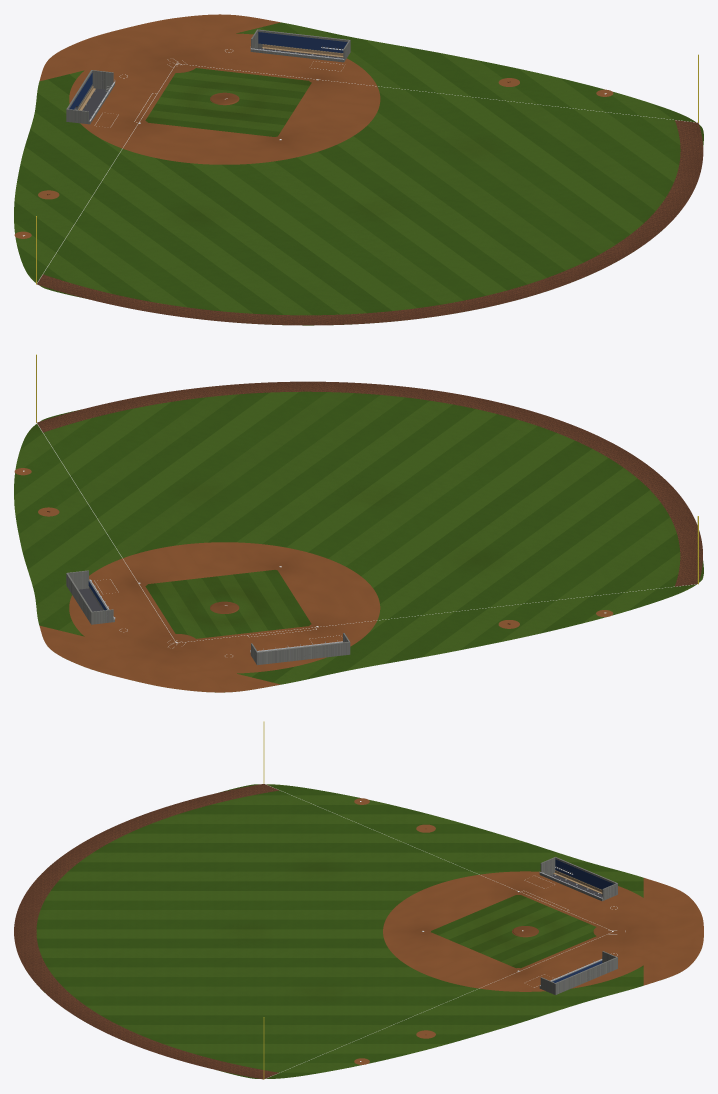
File: field.glb
3 renders of one model, top to bottom at view 1: azimuth 30°, elevation 25°; view 2: azimuth 150°, elevation 25°; view 3: azimuth 270°, elevation 25°, orthographic. The views are drawn at different scales.
Parts seen in each view (by area): view 1: Grass_Outfield, Dirt, WarningTrack, Grass_Infield, Dugout_3B_Padding, Dugout_1B, Dirt_Cutouts, Dugout_3B, Chalk; view 2: Grass_Outfield, Dirt, WarningTrack, Grass_Infield, Dugout_1B, Dugout_3B, Dirt_Cutouts, Chalk; view 3: Grass_Outfield, Dirt, WarningTrack, Grass_Infield, Dugout_3B, Dugout_1B, Dirt_Cutouts, Chalk, Dugout_1B_Padding.
Boxes of the visible parts, <box> form: Grass_Outfield: <box>14,22,703,325</box>; Dirt: <box>39,14,380,164</box>; WarningTrack: <box>37,120,703,325</box>; Grass_Infield: <box>145,68,311,136</box>; Dugout_3B_Padding: <box>258,32,347,52</box>; Dugout_1B: <box>66,70,114,124</box>; Dirt_Cutouts: <box>131,55,325,143</box>; Dugout_3B: <box>250,29,350,62</box>; Chalk: <box>37,49,697,283</box>; Grass_Outfield: <box>14,391,703,692</box>; Dirt: <box>39,542,380,692</box>; WarningTrack: <box>37,381,702,586</box>; Grass_Infield: <box>145,570,311,638</box>; Dugout_1B: <box>250,633,350,665</box>; Dugout_3B: <box>66,570,114,624</box>; Dirt_Cutouts: <box>131,563,325,651</box>; Chalk: <box>37,423,697,656</box>; Grass_Outfield: <box>36,784,643,1078</box>; Dirt: <box>383,871,703,991</box>; WarningTrack: <box>14,784,279,1079</box>; Grass_Infield: <box>431,895,596,968</box>; Dugout_3B: <box>539,951,617,994</box>; Dugout_1B: <box>539,857,617,901</box>; Dirt_Cutouts: <box>415,888,632,974</box>; Chalk: <box>264,783,625,1079</box>; Dugout_1B_Padding: <box>555,859,613,889</box>.
Bounding box in the file's own units: 142 × 15.35 × 140.
12 materials, 5 textured.
